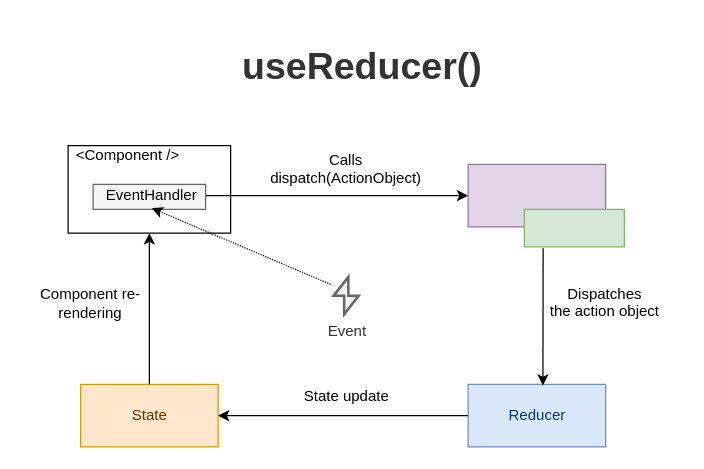
The diagram is 704 pixels wide and 469 high, and some of its shapes have lost their labels. Each missing label, with the box of its shape:
ActionObject: (523, 208, 624, 247)
Dispatch: (467, 163, 606, 227)
